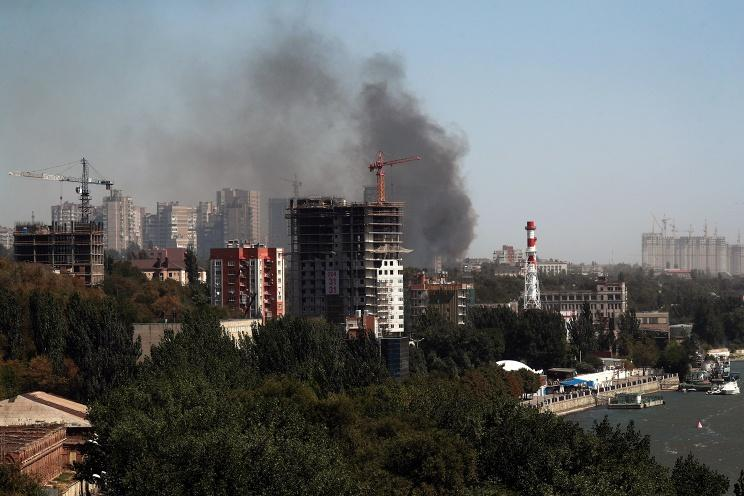smoke: (361, 56, 468, 257), (278, 44, 346, 184)
